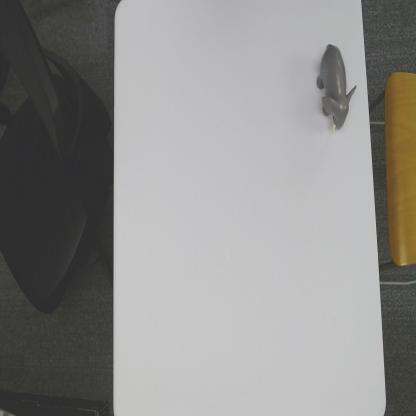Elephant: (316, 43, 357, 133)
